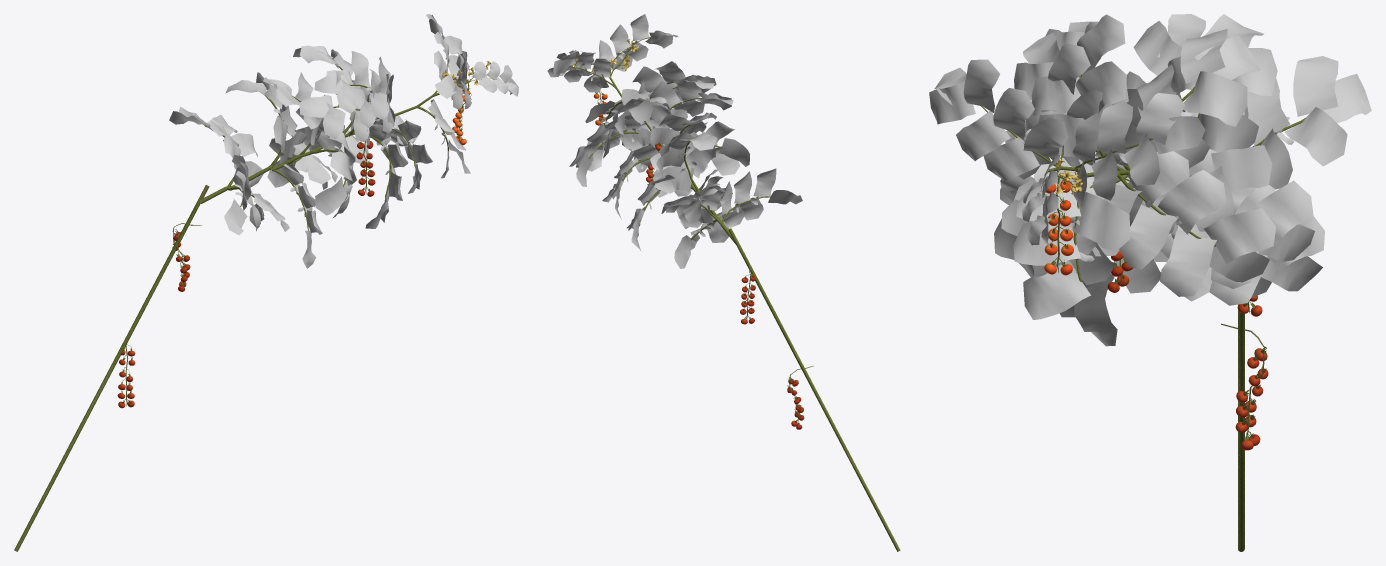
Rendered from tomato_vine_repo_v0.dae.
3 renders of one model, left to right at view 1: azimuth 30°, elevation 25°; view 2: azimuth 150°, elevation 25°; view 3: azimuth 270°, elevation 25°, orthographic. The views are drawn at different scales.
Parts seen in each view (by area): view 1: Leaf1, Branch1, Sphere.001; view 2: Leaf1, Branch1, Sphere.001; view 3: Leaf1, Branch1, Sphere.001, Sphere.037.
Boxes of the visible parts, x1,y1,x2,y2 form: Leaf1: (169, 14, 518, 268); Branch1: (14, 63, 505, 551); Sphere.001: (117, 141, 375, 408); Leaf1: (547, 14, 802, 268); Branch1: (569, 37, 900, 551); Sphere.001: (646, 143, 804, 429); Leaf1: (929, 14, 1371, 346); Branch1: (979, 73, 1305, 551); Sphere.001: (1107, 250, 1268, 450); Sphere.037: (1043, 179, 1073, 275).
Size of the model in its own units: 1.94 by 0.9597 by 1.91.
